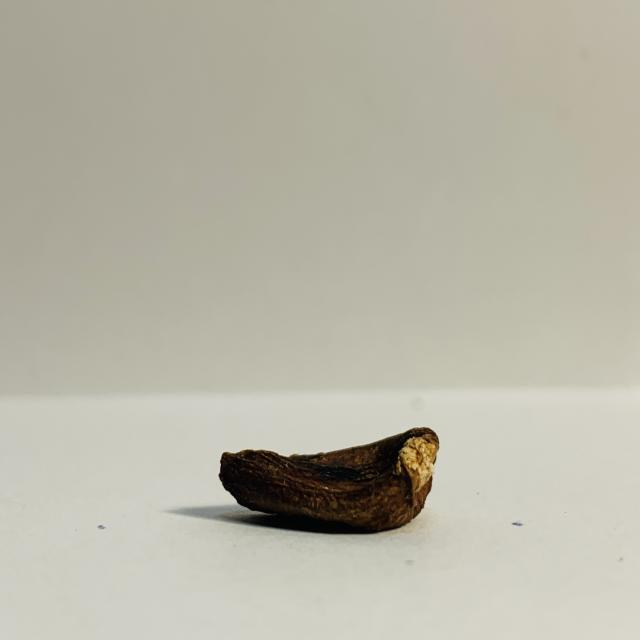Flat_cocoabeans: (101, 384, 555, 550)
